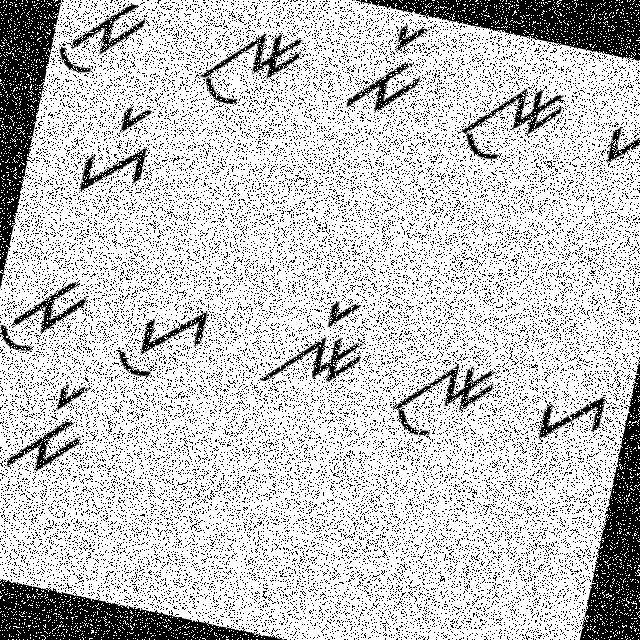ha: (512, 353, 619, 462), (587, 89, 639, 188)
har: (60, 90, 171, 208)
haw: (98, 275, 223, 397)
mbar: (342, 4, 444, 130), (1, 368, 104, 488)
mbaw: (0, 254, 97, 370), (49, 0, 155, 95)
ndar: (226, 262, 384, 416)
ndaw: (448, 52, 576, 186), (374, 336, 502, 462), (190, 10, 309, 126)
